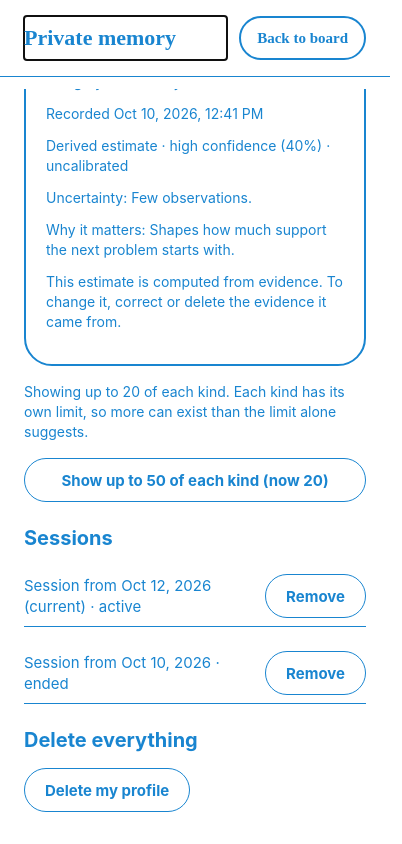
MemoryScreen › deletes the whole profile only after an explicit confirmation, and hands the receipt to the app
(page scrolled)
Click the button "Delete my profile" at (107, 790), box [24,768,190,812]
(page scrolled)
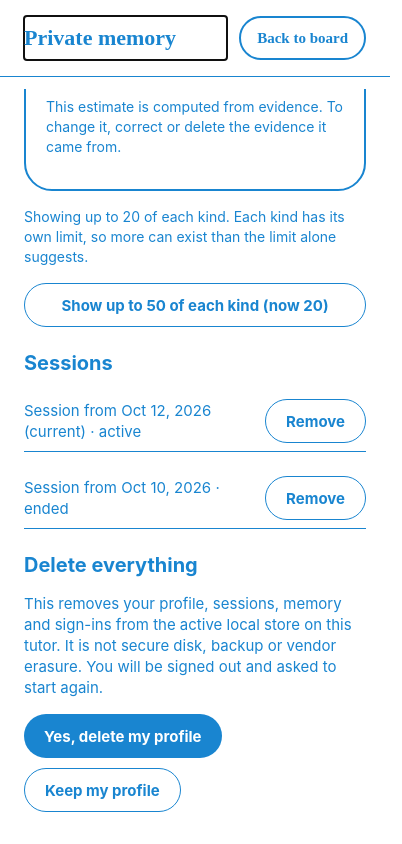
Expected: the text with test id "profile-delete-warning" shows "not secure disk, backup or vendor erasure", [24,594,356,697]
Click the button "Yes, delete my profile" at (123, 736), box [24,714,222,758]
(page scrolled)
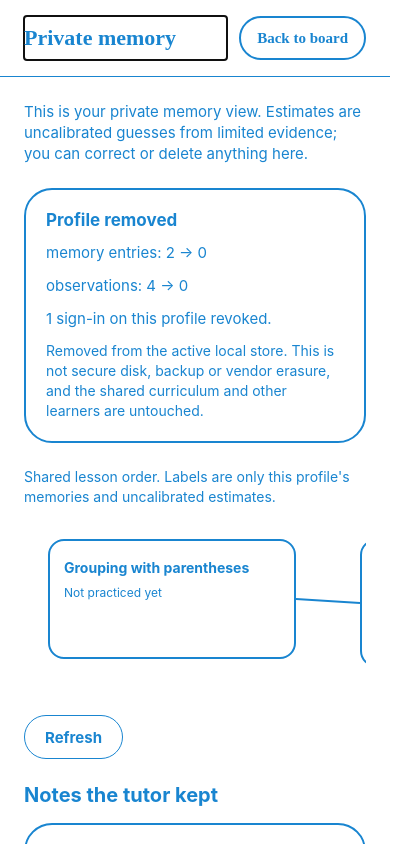
Expected: the heading "Profile removed" is shown, [46,210,177,230]
